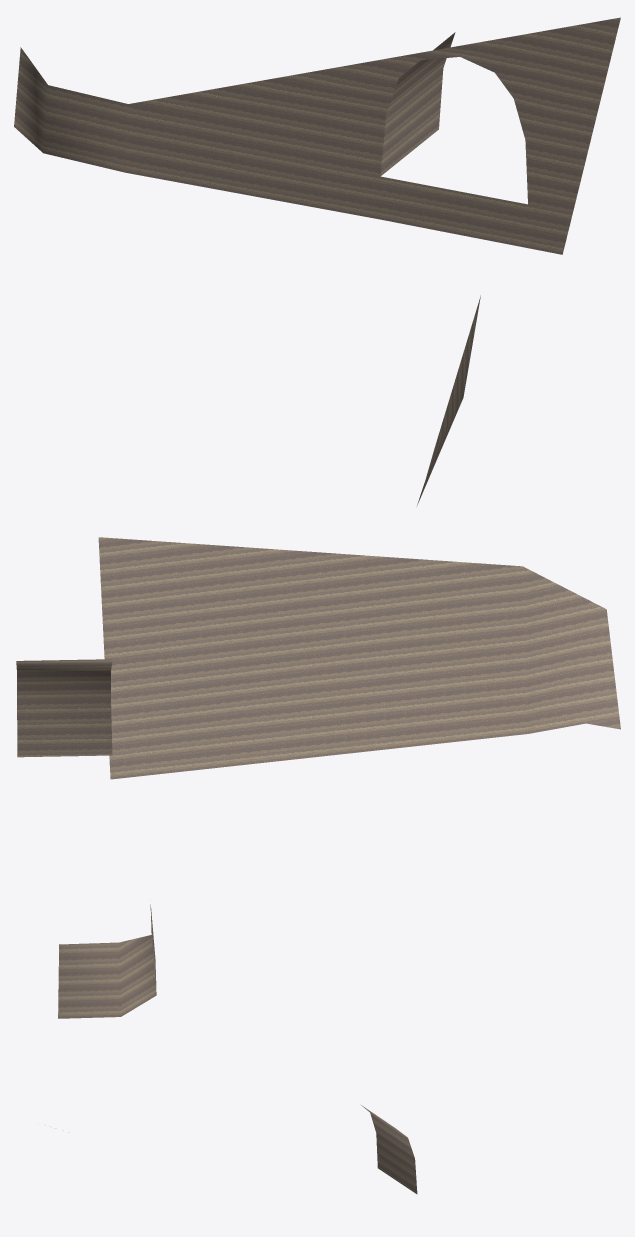
The model's file is kd_stage_1363c5_6_7.glb.
3 renders of one model, top to bottom at view 1: azimuth 30°, elevation 25°; view 2: azimuth 150°, elevation 25°; view 3: azimuth 270°, elevation 25°, orthographic. The views are drawn at different scales.
Visible parts, largest first — view 1: kd_stage_1363c5_6_7; view 2: kd_stage_1363c5_6_7; view 3: kd_stage_1363c5_6_7.
Boxes of the visible parts, x1=… form: kd_stage_1363c5_6_7: x1=14, y1=17, x2=620, y2=505; kd_stage_1363c5_6_7: x1=16, y1=537, x2=620, y2=1018; kd_stage_1363c5_6_7: x1=360, y1=1104, x2=417, y2=1194.
Size of the model in its own units: 63.6 by 37.39 by 136.
Materials: 1 (1 with a texture image).
